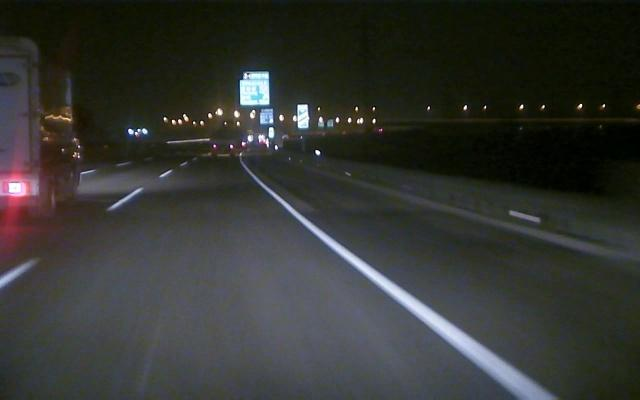lane: (254, 174, 559, 398), (3, 172, 169, 287)
